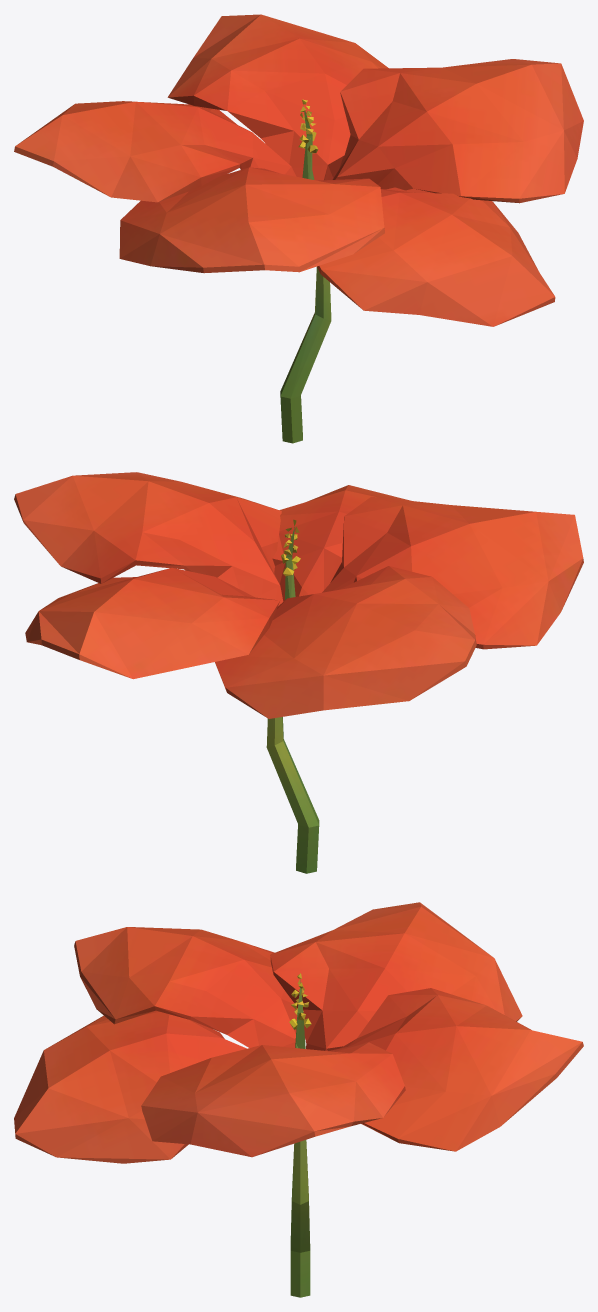
File: hibiscus.glb
3 views of the same model, one above another, from view 1: azimuth 30°, elevation 25°; view 2: azimuth 150°, elevation 25°; view 3: azimuth 270°, elevation 25° (orthographic). The views are drawn at different scales.
Parts seen in each view (by area): view 1: HibiscusFlower_mesh; view 2: HibiscusFlower_mesh; view 3: HibiscusFlower_mesh.
Boxes of the visible parts, <box> form: HibiscusFlower_mesh: <box>14,14,583,443</box>; HibiscusFlower_mesh: <box>14,472,583,873</box>; HibiscusFlower_mesh: <box>14,902,583,1297</box>.
Bounding box in the file's own units: 11.11 × 7.24 × 11.48.
1 material, 1 textured.
